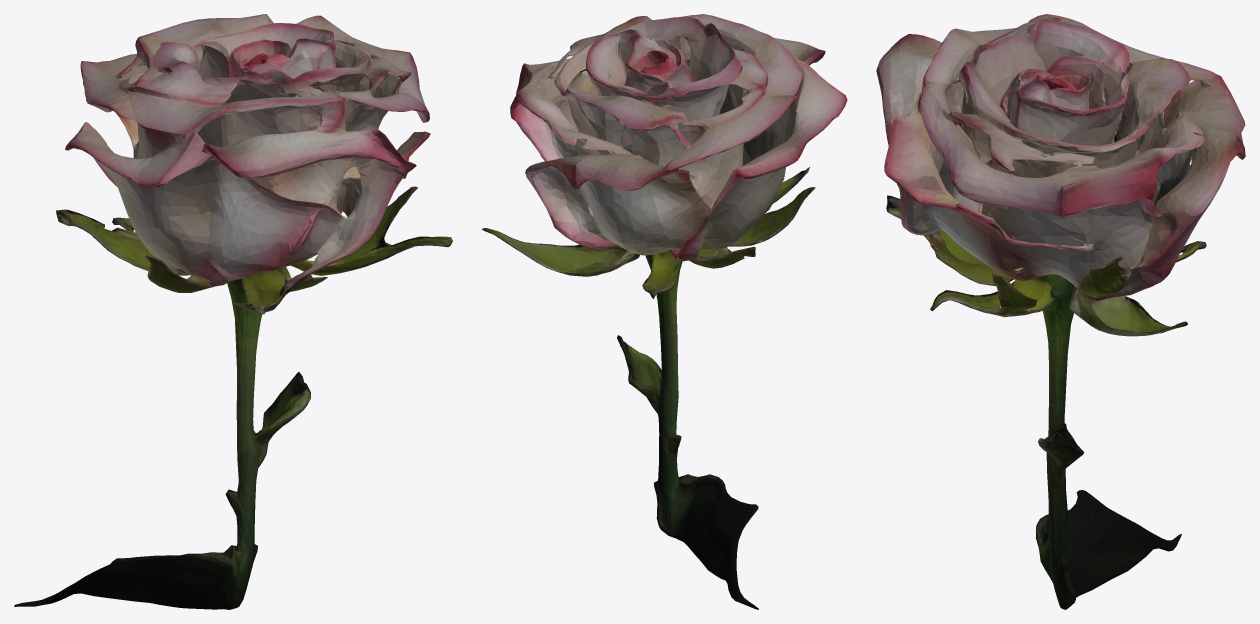
3 renders of one model, left to right at view 1: azimuth 30°, elevation 25°; view 2: azimuth 150°, elevation 25°; view 3: azimuth 270°, elevation 25°, orthographic. The views are drawn at different scales.
Parts seen in each view (by area): view 1: world; view 2: world; view 3: world.
Part boxes in pixels (x1=…): world: x1=14, y1=14, x2=452, y2=609; world: x1=482, y1=14, x2=847, y2=609; world: x1=876, y1=14, x2=1245, y2=609.
Bounding box in the file's own units: 0.615 × 0.9891 × 0.5858.
Materials: 1 (1 with a texture image).
